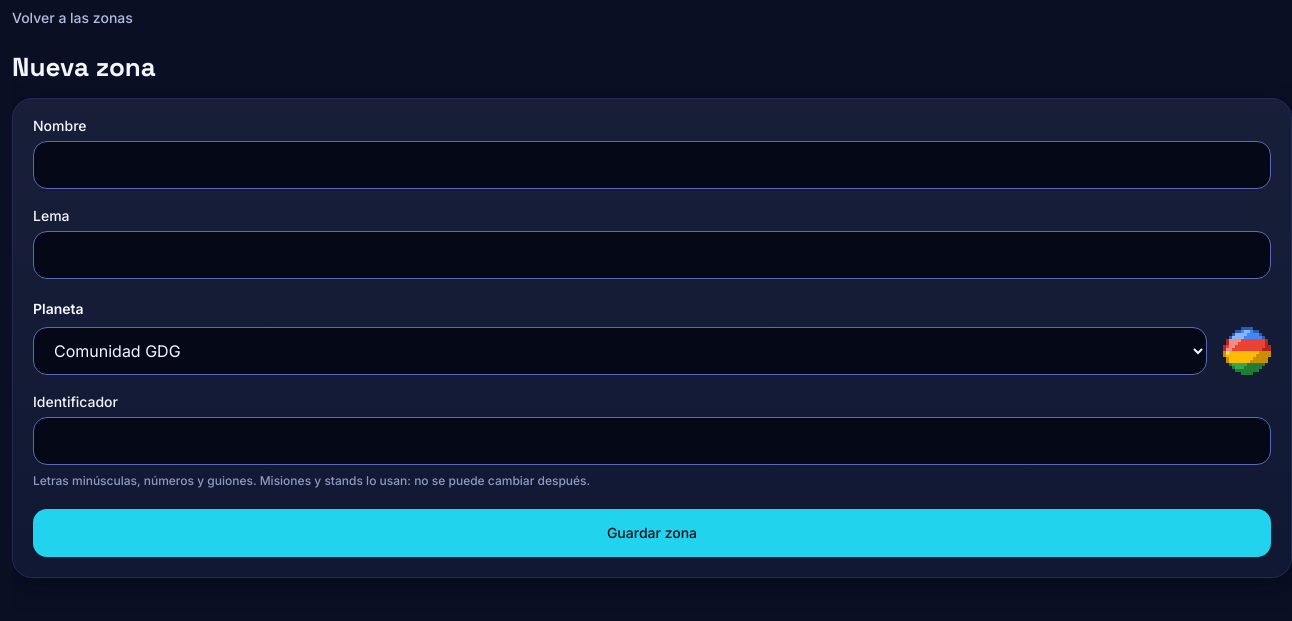
Test case: QuadrantForm › checks name, tagline and id before sending
Type "W" into the field labelled "Nombre" at (652, 165), box [33,141,1271,189]
Click the button "Guardar zona" at (652, 533), box [33,509,1271,557]
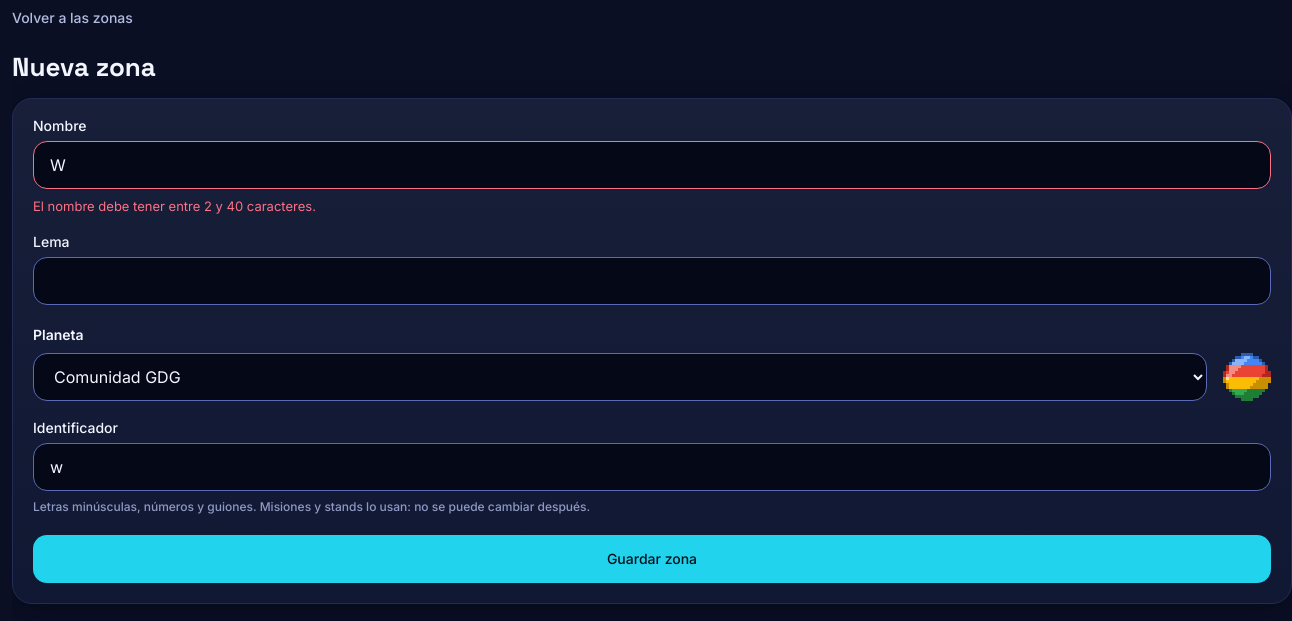
Check: the text "El nombre debe tener entre 2 y 40 caracteres." is shown, box [33,198,316,214]
Replace the text in the field labelled "Nombre" with "Web" at (652, 165), box [33,141,1271,189]
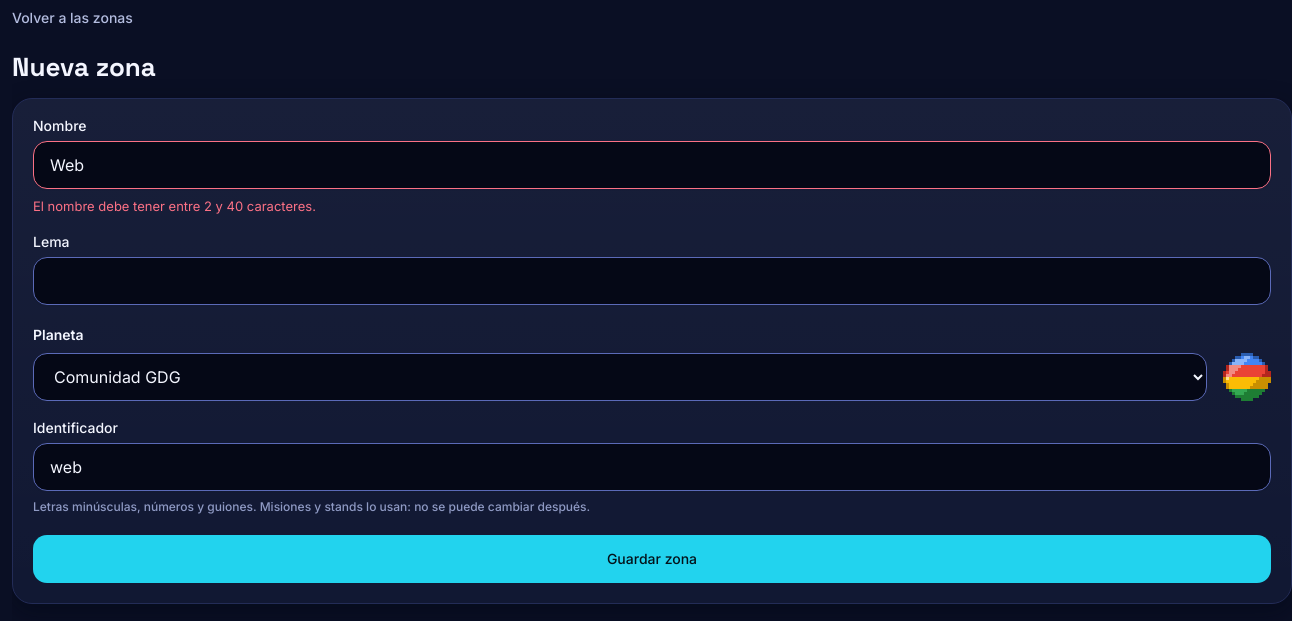
Click the button "Guardar zona" at (652, 559), box [33,535,1271,583]
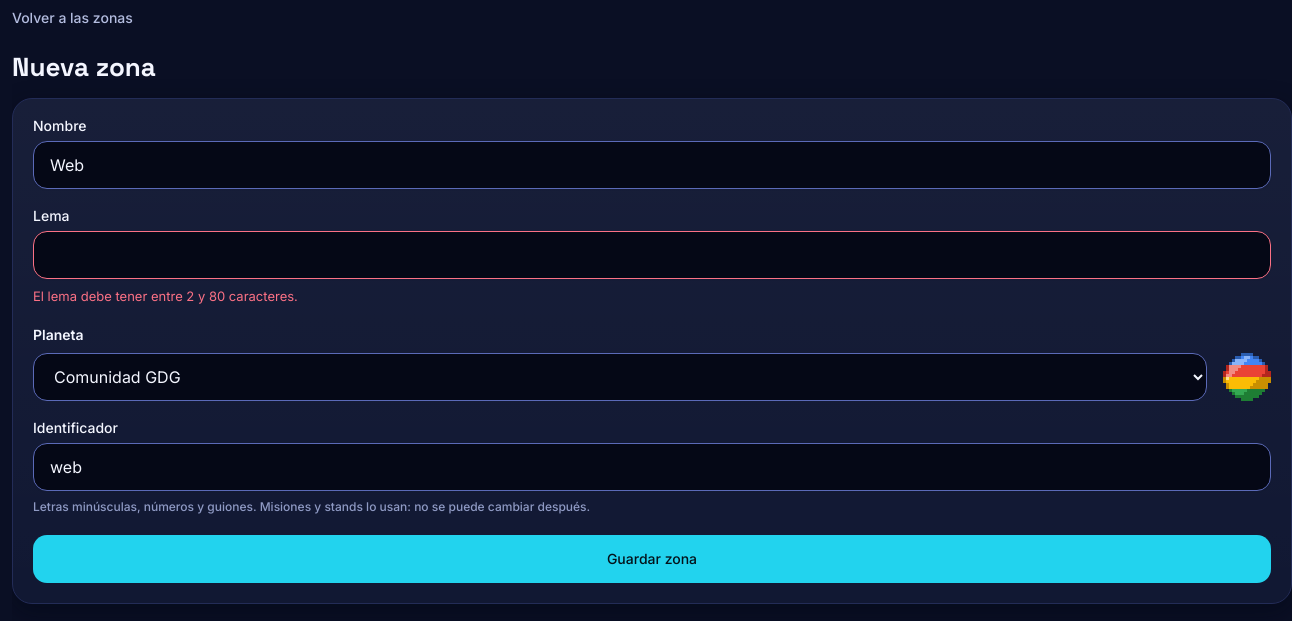
Check: the text "El lema debe tener entre 2 y 80 caracteres." is shown, box [33,288,298,304]
Type "Lema" into the field labelled "Lema" at (652, 255), box [33,231,1271,279]
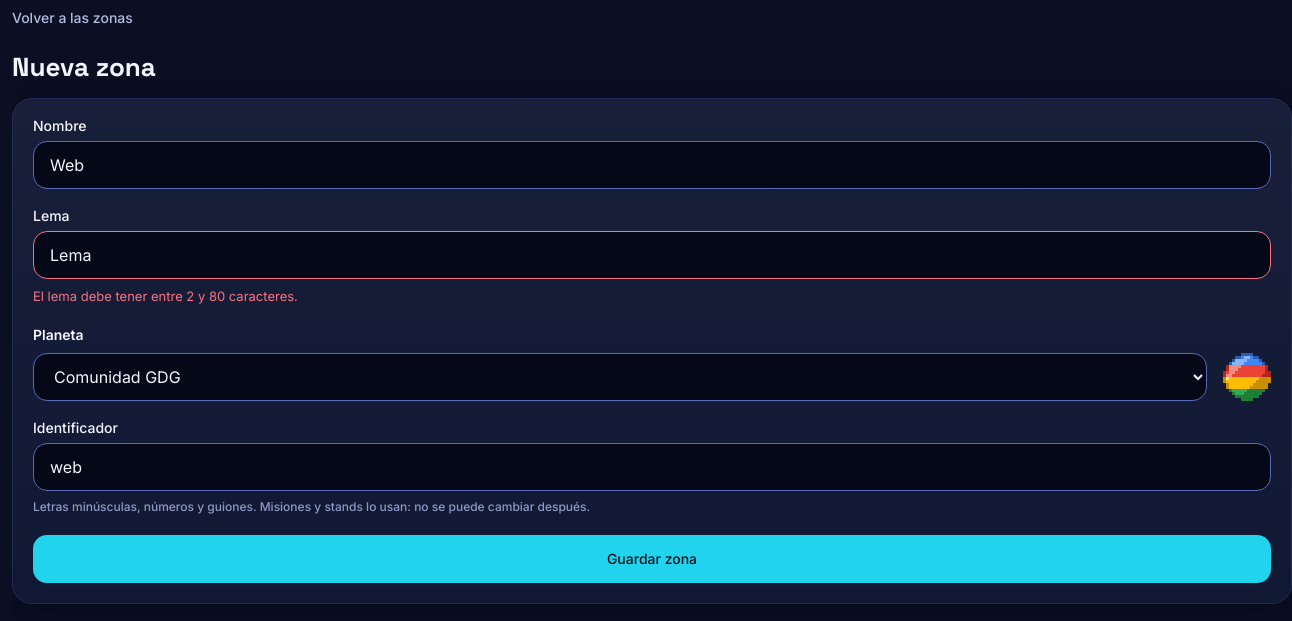
Replace the text in the field labelled "Identificador" with "Web Dev" at (652, 467), box [33,443,1271,491]
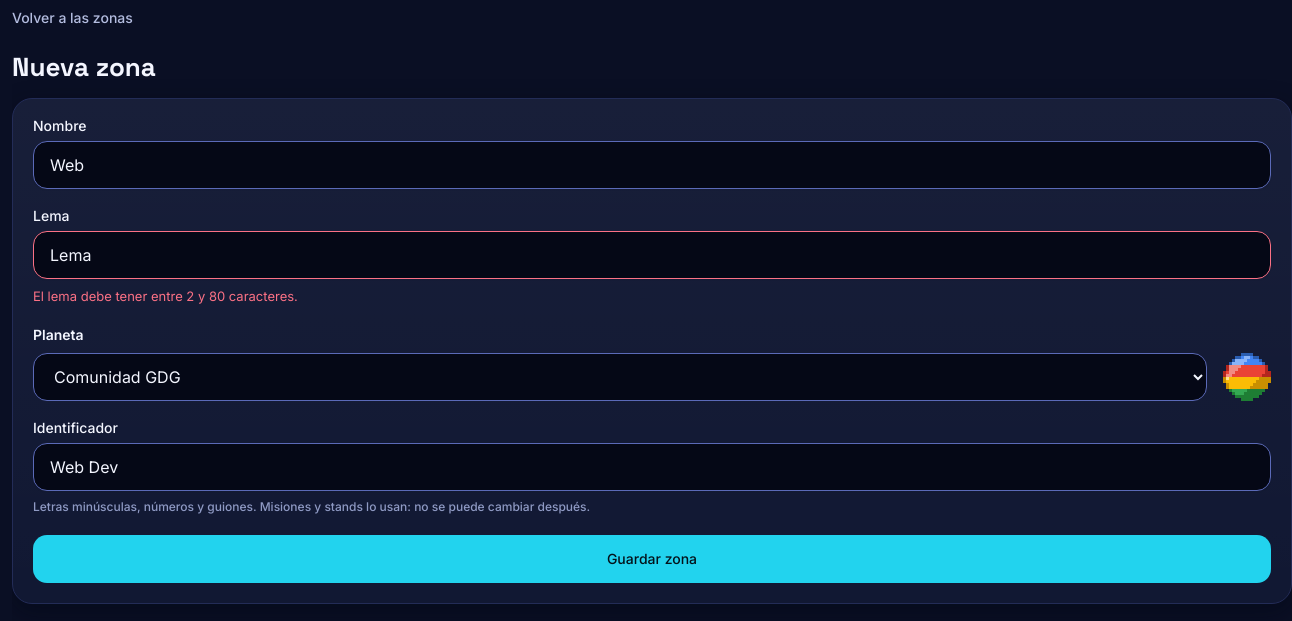
Click the button "Guardar zona" at (652, 559), box [33,535,1271,583]
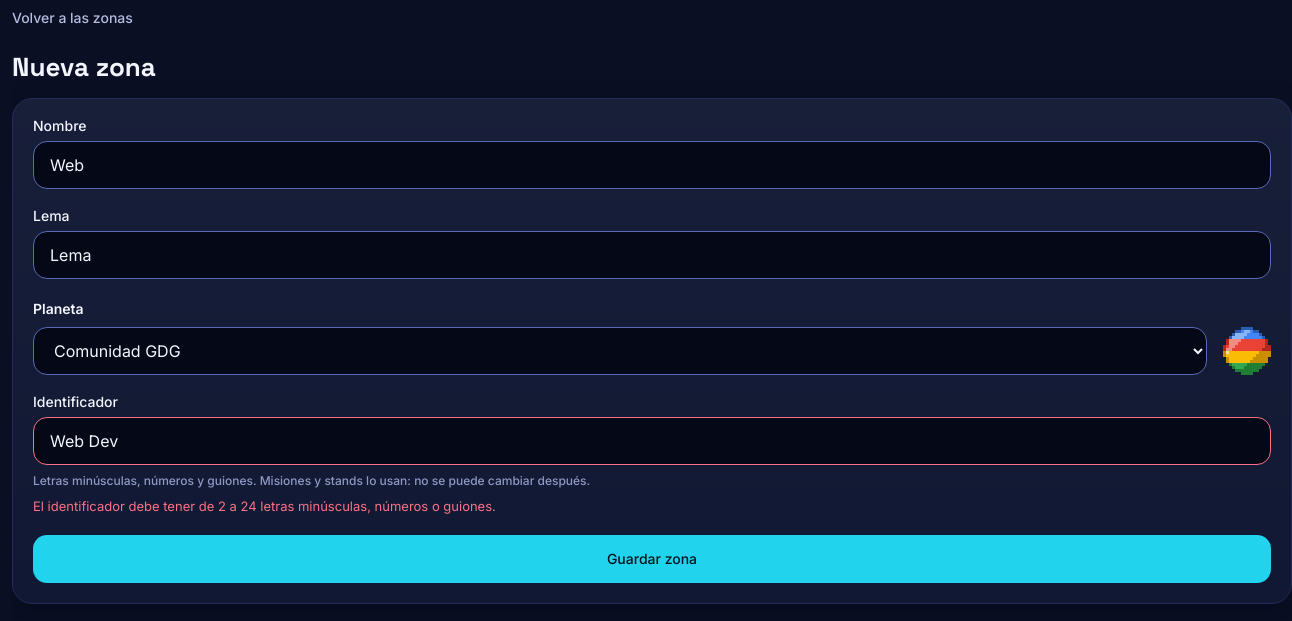
Check: the text "El identificador debe tener de 2 a 24 letras minúsculas, números o guiones." is shown, box [33,498,496,514]
